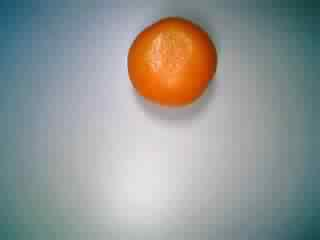orange: (118, 18, 219, 107)
